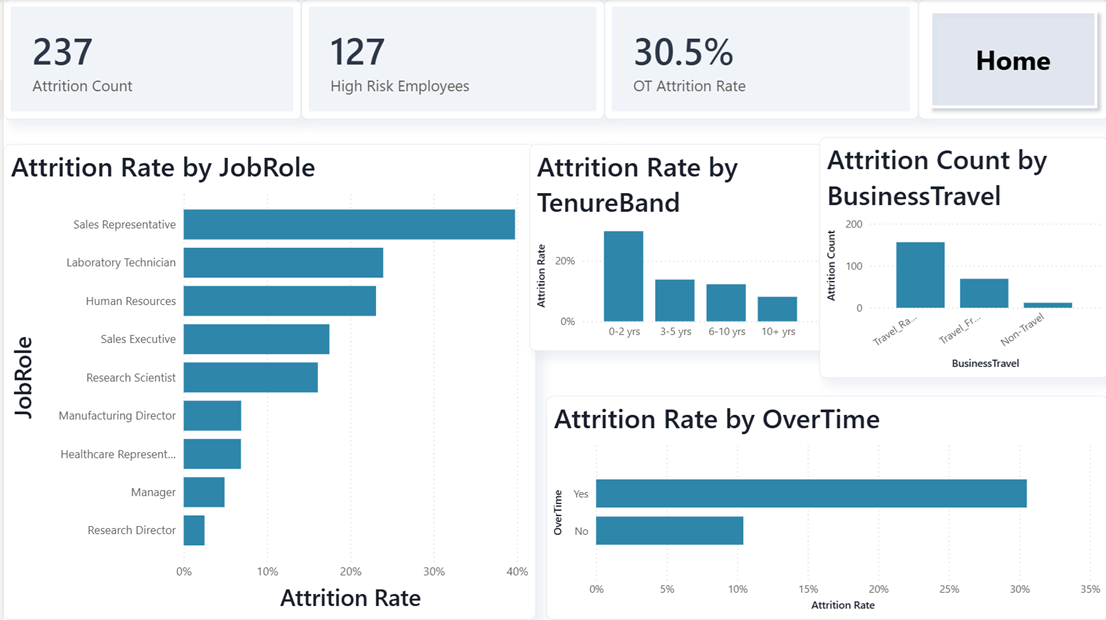

The page's visual inventory and layout, read from the dashboard file:
{"tool":"powerbi","page":{"name":"Attrition Analysis","canvas":[1280,720],"ordinal":2},"visuals":[{"type":"clusteredBarChart","fields":{"Category":["HR_Data.JobRole"],"Y":["Measures (2).Attrition Rate"]},"box":[0,168,617.6,551.6],"z":0},{"type":"clusteredBarChart","fields":{"Category":["HR_Data.OverTime"],"Y":["Measures (2).Attrition Rate"]},"box":[629.2,460,651.2,259.6],"z":1000},{"type":"clusteredColumnChart","fields":{"Category":["HR_Data.TenureBand"],"Y":["Measures (2).Attrition Rate"]},"box":[609.5,168,345.3,239.9],"z":2000},{"type":"cardVisual","title":"Attrition by Business Travel","fields":{"Data":["Measures (2).Attrition Count"]},"box":[0,0,345.3,139],"z":3000},{"type":"cardVisual","fields":{"Data":["Measures (2).High Risk Employees"]},"box":[345.3,0,351.1,139],"z":4000},{"type":"cardVisual","fields":{"Data":["Measures (2).OT Attrition Rate"]},"box":[696.4,0,363.8,139],"z":5000},{"type":"clusteredColumnChart","fields":{"Category":["HR_Data.BusinessTravel"],"Y":["Measures (2).Attrition Count"]},"box":[945.5,159.9,334.9,279.3],"z":6000},{"type":"actionButton","box":[1060.2,0,220.2,139],"z":6001}]}

Visuals, with their boxes in screenshot pixels (x1, y1, x2, y2), scaled from the page's 1280x720 canvas onto the 1106x620 screenshot:
clusteredBarChart - HR_Data.JobRole x Measures (2).Attrition Rate: <box>0,145,534,619</box>
clusteredBarChart - HR_Data.OverTime x Measures (2).Attrition Rate: <box>544,396,1105,619</box>
clusteredColumnChart - HR_Data.TenureBand x Measures (2).Attrition Rate: <box>527,145,825,351</box>
"Attrition by Business Travel" cardVisual: <box>0,0,298,120</box>
cardVisual - Measures (2).High Risk Employees: <box>298,0,602,120</box>
cardVisual - Measures (2).OT Attrition Rate: <box>602,0,916,120</box>
clusteredColumnChart - HR_Data.BusinessTravel x Measures (2).Attrition Count: <box>817,138,1105,378</box>
actionButton: <box>916,0,1105,120</box>
